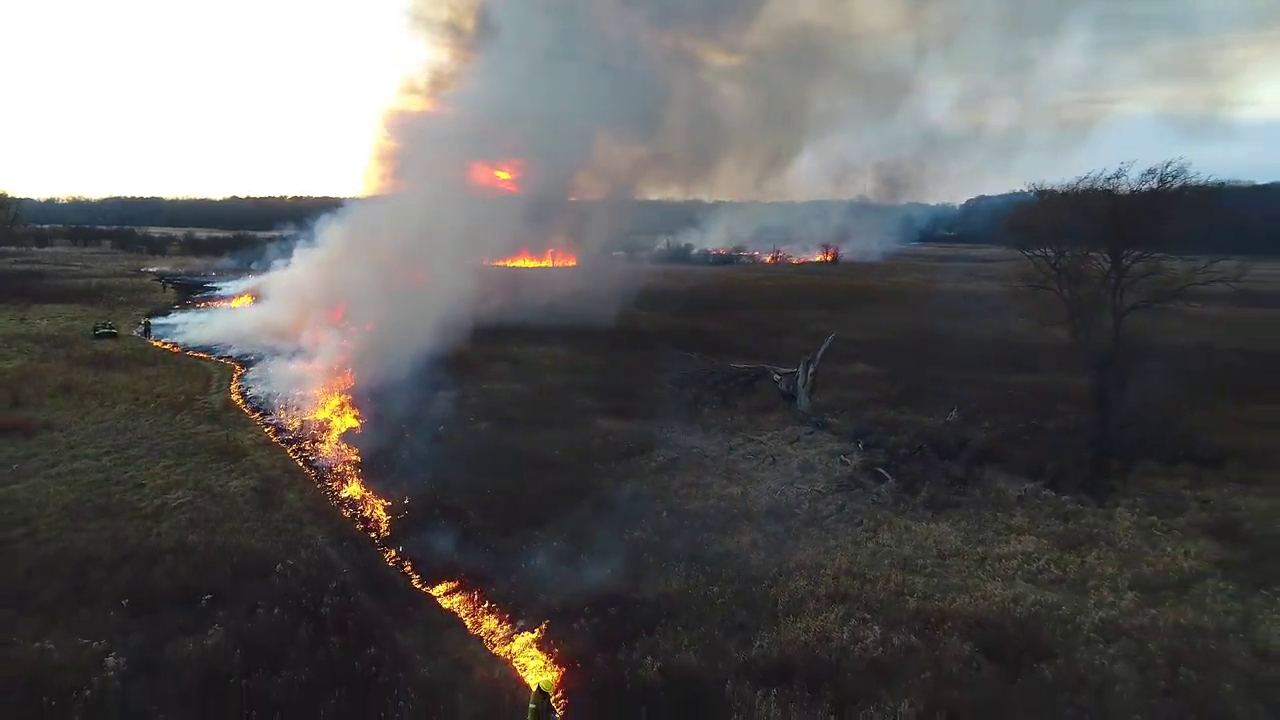forest_fire: (150, 338, 566, 714), (485, 248, 576, 266), (804, 243, 841, 263), (230, 293, 255, 306)
